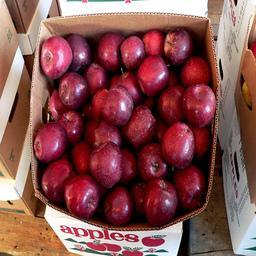apple: (143, 179, 178, 225), (161, 122, 196, 167), (65, 175, 99, 217), (90, 141, 121, 187), (183, 84, 215, 125), (124, 105, 156, 145), (138, 56, 169, 96), (41, 37, 72, 77), (34, 122, 65, 161), (103, 85, 133, 124), (42, 161, 73, 198), (156, 85, 185, 124), (60, 72, 90, 109), (177, 167, 205, 206), (165, 27, 194, 64), (140, 143, 169, 179), (96, 32, 122, 70), (104, 189, 133, 223), (121, 37, 145, 71), (182, 56, 211, 84), (67, 34, 91, 67), (59, 111, 83, 142)
